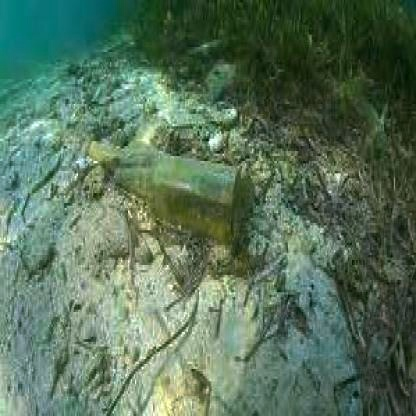gbottle: (83, 138, 245, 242)
